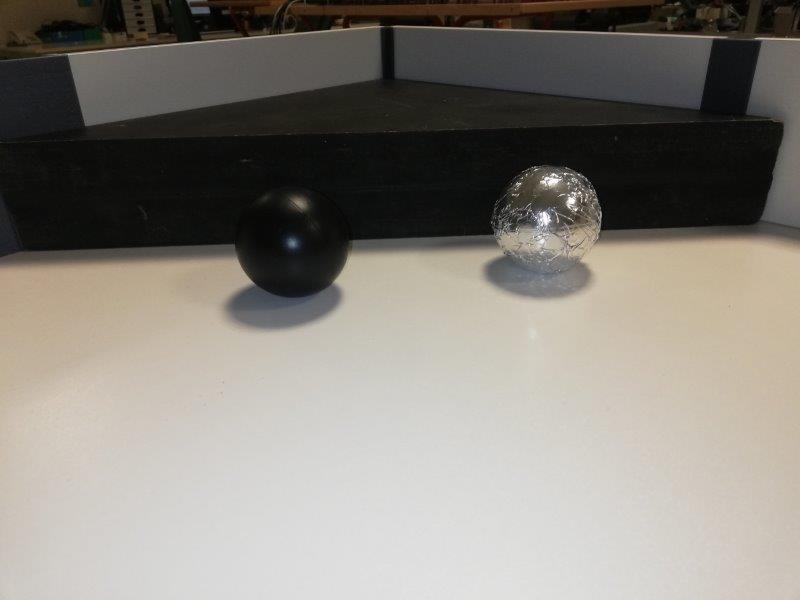bianca: (490, 164, 603, 274)
nera: (234, 180, 353, 298)
